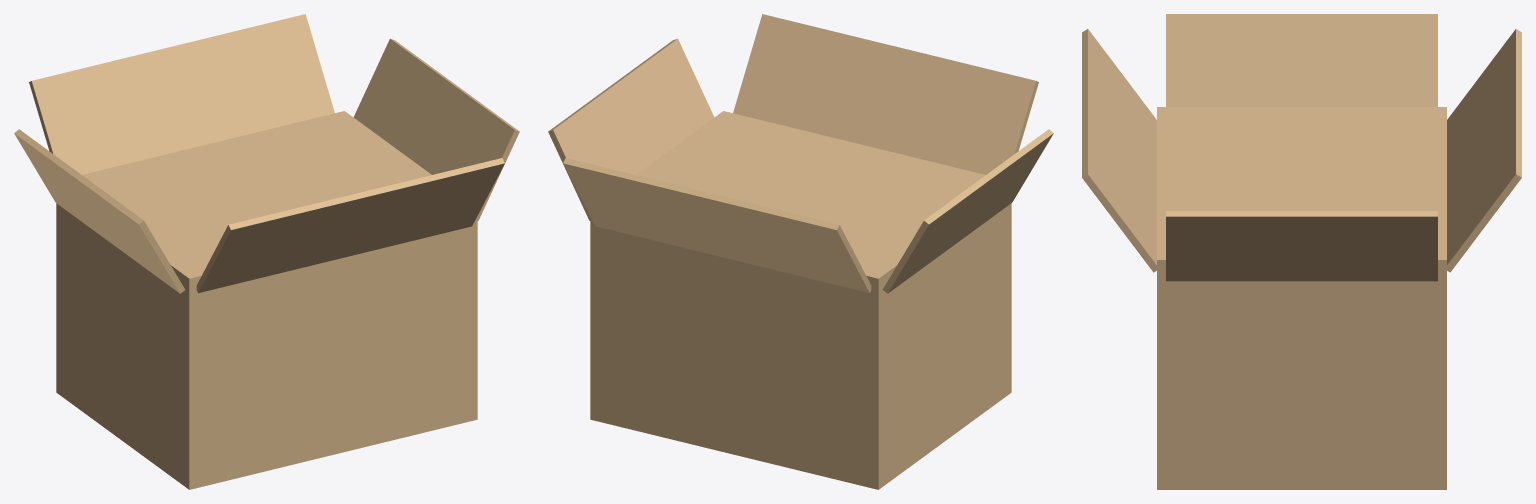
The model's file is Basura_Papel_CajaCarton.fbx.
The picture shows the model from 3 angles, left to right: view 1: azimuth 30°, elevation 25°; view 2: azimuth 150°, elevation 25°; view 3: azimuth 270°, elevation 25°; orthographic projection. The views are drawn at different scales.
Parts seen in each view (by area): view 1: Basura_Papel_CajaCarton; view 2: Basura_Papel_CajaCarton; view 3: Basura_Papel_CajaCarton.
Part boxes in pixels (<box>): Basura_Papel_CajaCarton: <box>14,14,519,489</box>; Basura_Papel_CajaCarton: <box>548,14,1053,489</box>; Basura_Papel_CajaCarton: <box>1082,14,1521,489</box>.
Size of the model in its own units: 1.32 by 0.9501 by 1.21.
1 material, 1 textured.
